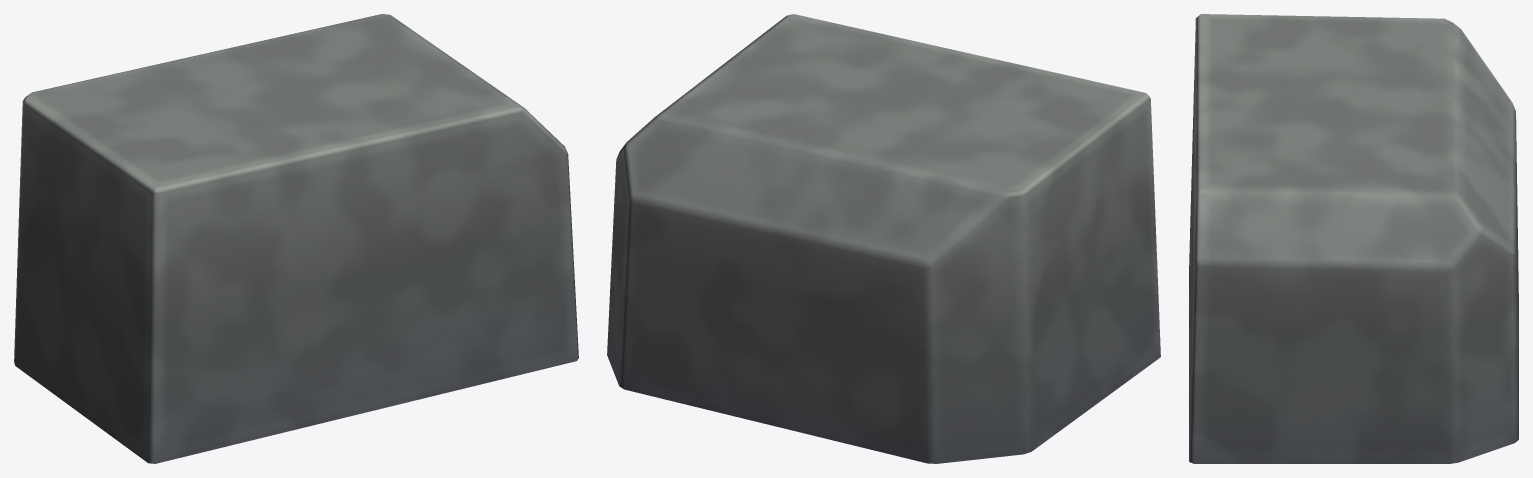
File: block_1.glb
3 views of the same model, side by side, from view 1: azimuth 30°, elevation 25°; view 2: azimuth 150°, elevation 25°; view 3: azimuth 270°, elevation 25° (orthographic). The views are drawn at different scales.
Visible parts, largest first — view 1: block_1; view 2: block_1; view 3: block_1.
Part boxes in pixels (x1,y1,x2,y2): block_1: (14, 14, 578, 463); block_1: (607, 14, 1160, 463); block_1: (1189, 14, 1518, 463).
Size of the model in its own units: 0.5 by 0.3 by 0.35.
Materials: 1 (1 with a texture image).
